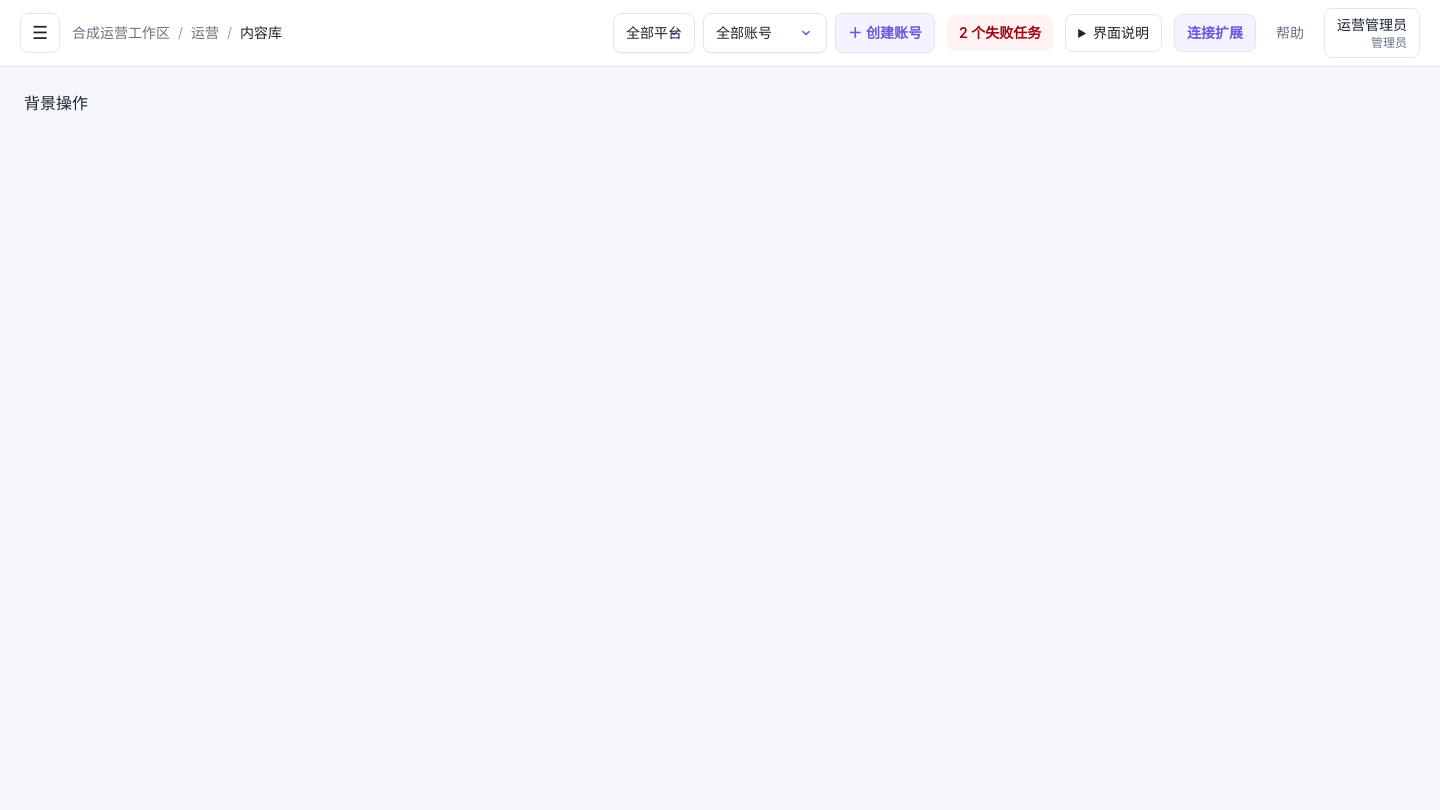
Scenario: workspace shell behavior › opens a focus-managed inert-background drawer at 390px
The width and height of the screenshot is (1440, 810).
Click the button named "打开主导航". click: (40, 33)
box: [20, 13, 60, 53]
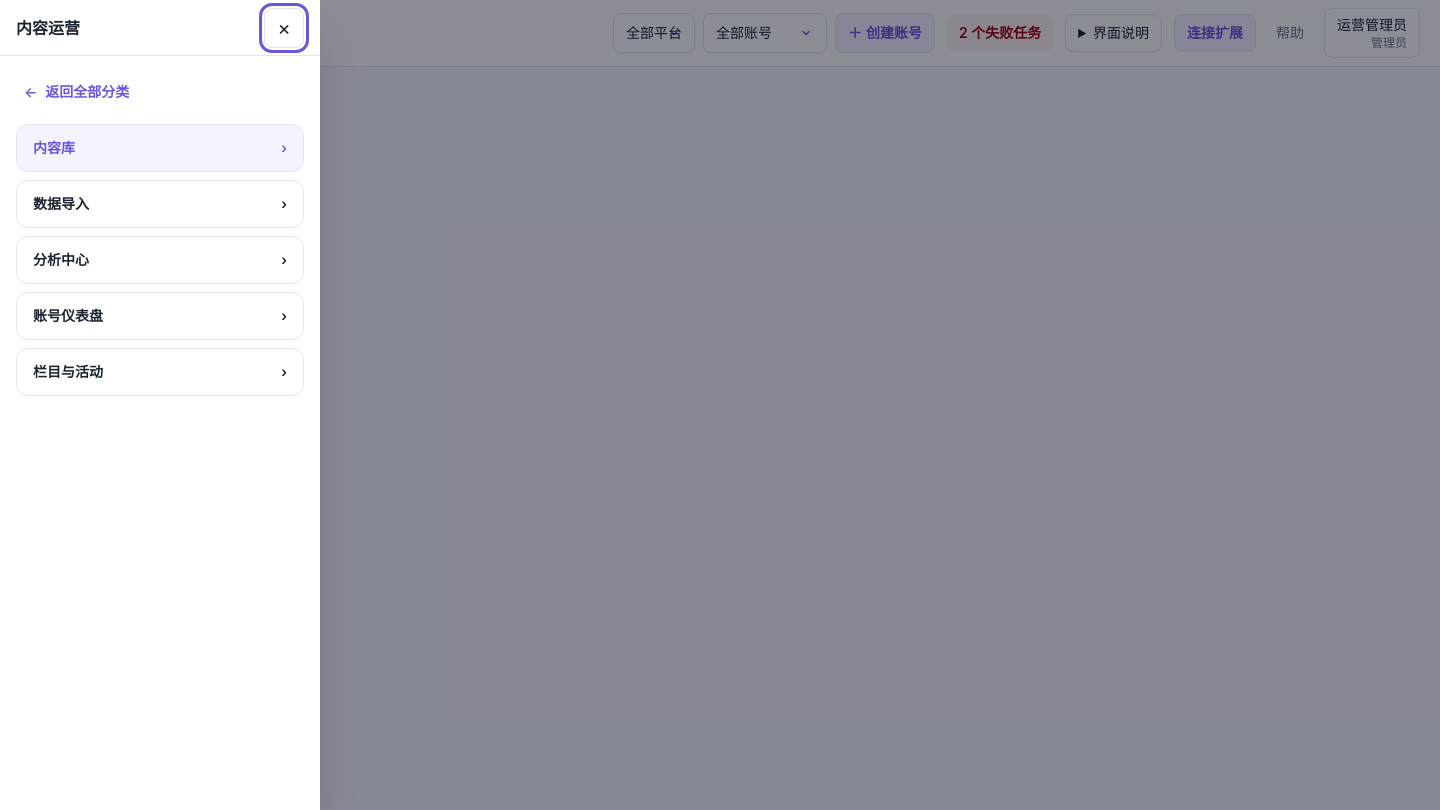
Now the dialog named "主导航" is shown, box [0, 0, 320, 809]
Press Tab
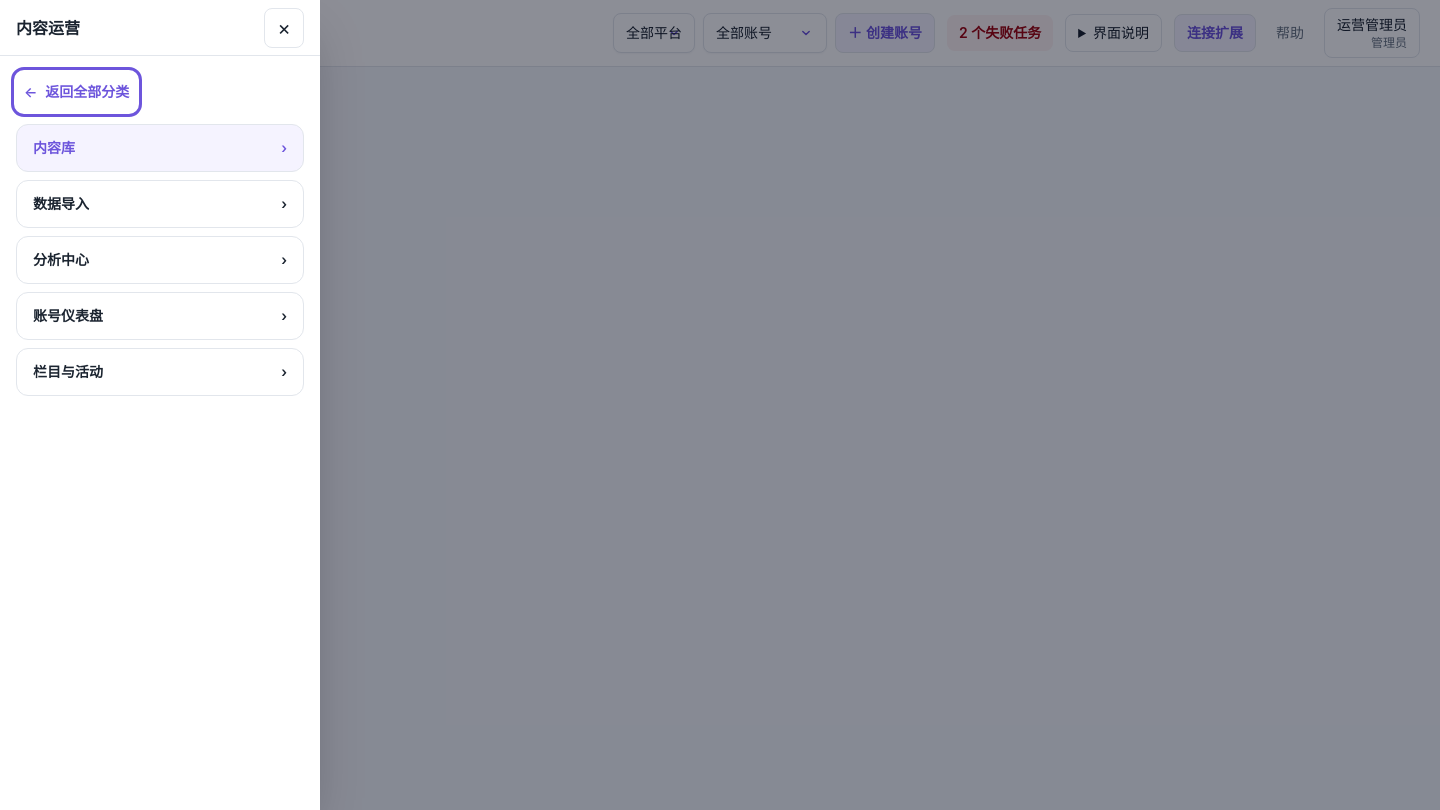
Press Escape
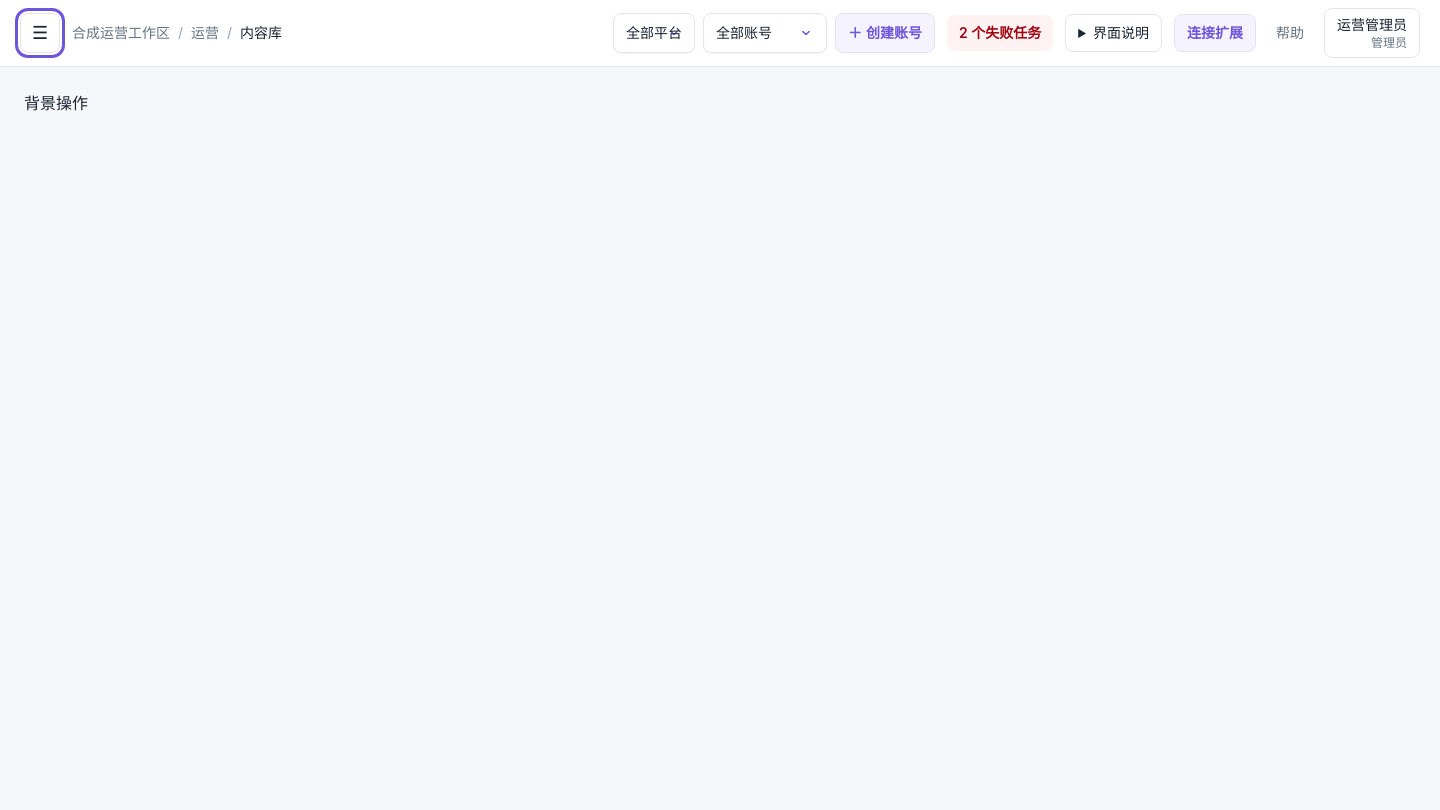
Now the dialog "主导航" is gone
